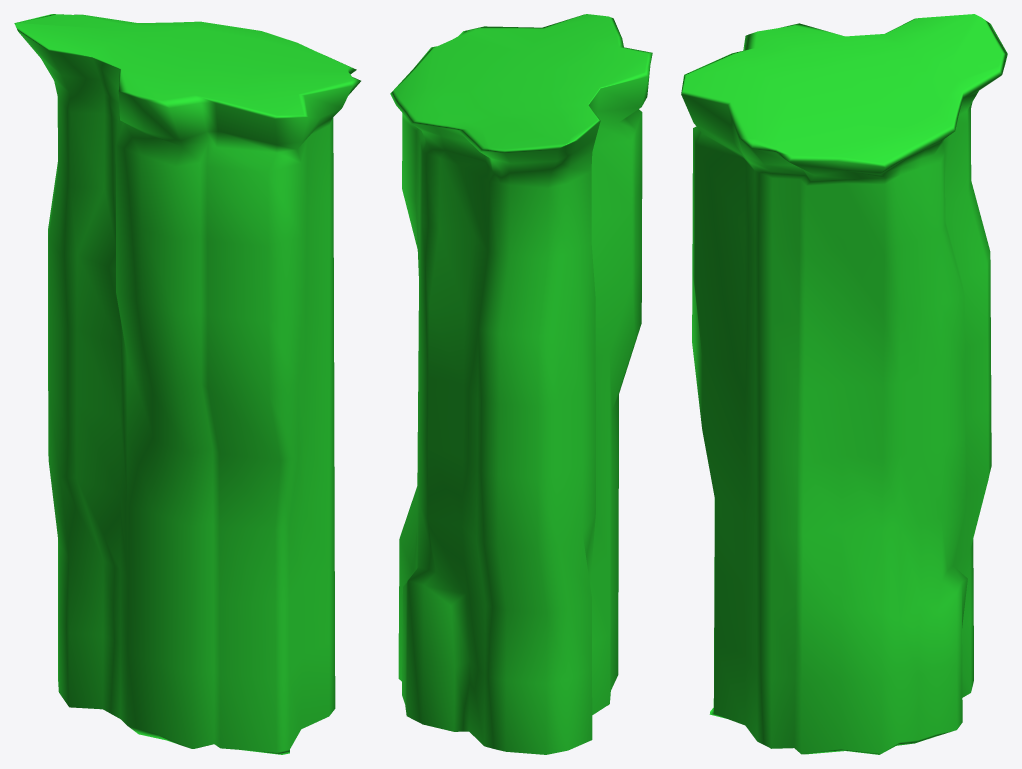
Rendered from long_rock_02.fbx.
3 renders of one model, left to right at view 1: azimuth 30°, elevation 25°; view 2: azimuth 150°, elevation 25°; view 3: azimuth 270°, elevation 25°, orthographic. The views are drawn at different scales.
Visible parts, largest first — view 1: rock_long_02; view 2: rock_long_02; view 3: rock_long_02.
Part boxes in pixels (bbox=[...]): rock_long_02: bbox=[14, 14, 360, 754]; rock_long_02: bbox=[390, 14, 652, 754]; rock_long_02: bbox=[681, 14, 1007, 754].
Size of the model in its own units: 1403 by 3619 by 1677.
